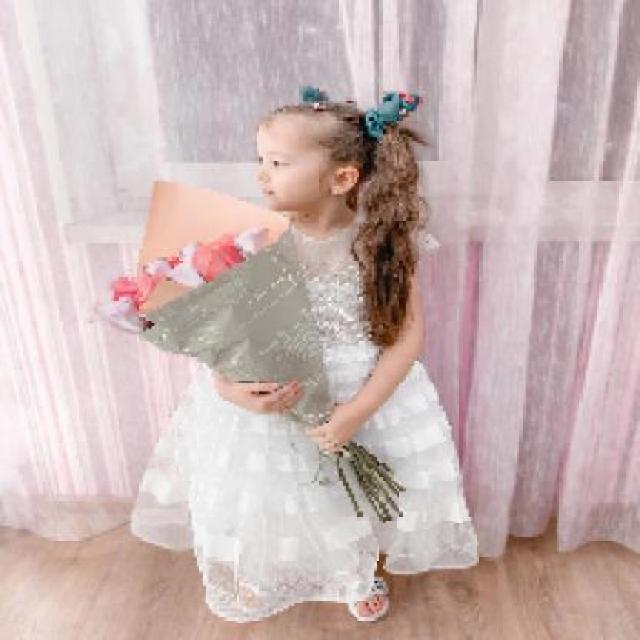child: (91, 83, 483, 623)
